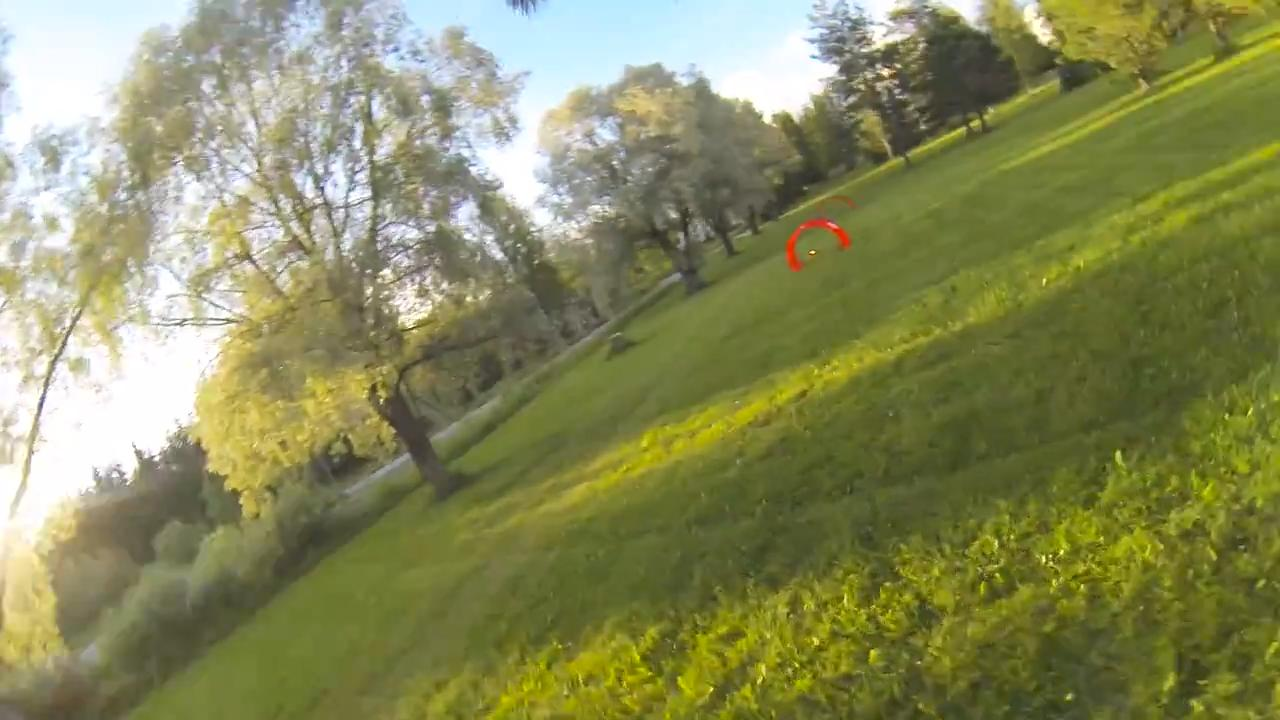gate: (785, 217, 852, 273)
